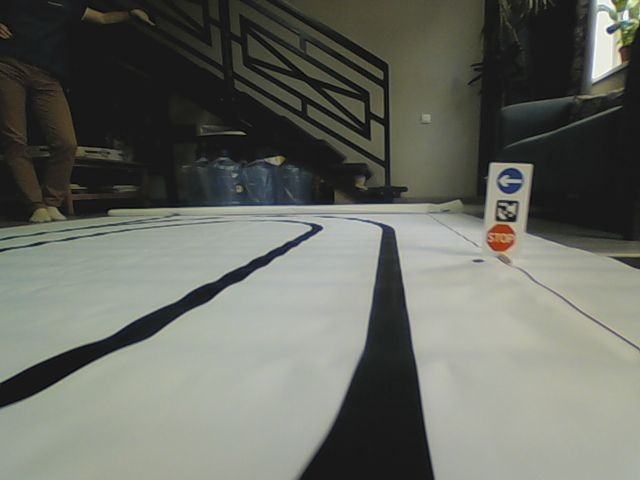Stop: (484, 223, 517, 252)
